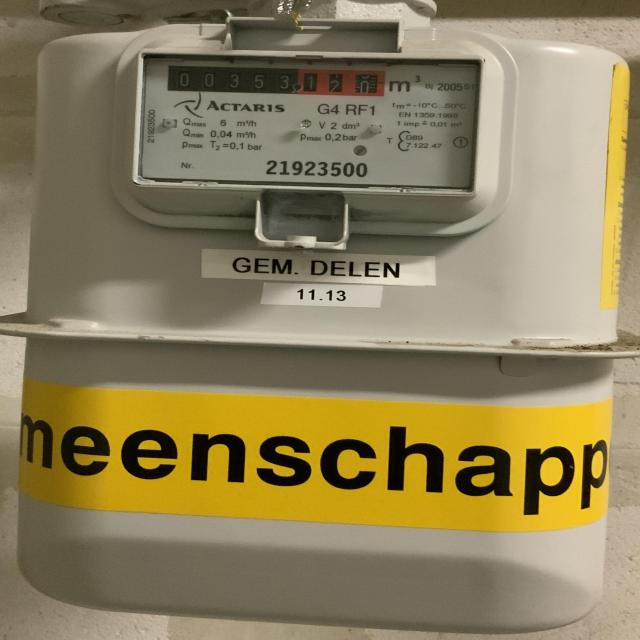gaz_meter: (138, 45, 479, 194)
indication: (168, 62, 390, 97)
